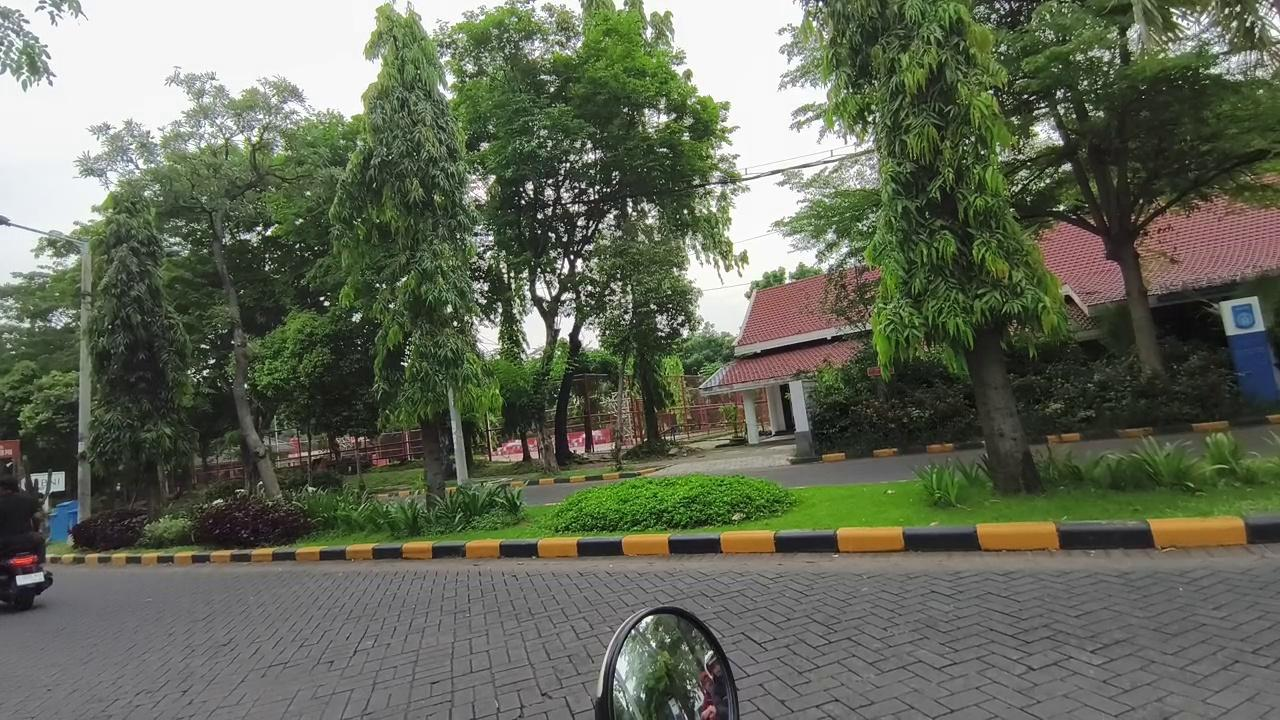Motor: (0, 553, 52, 609)
